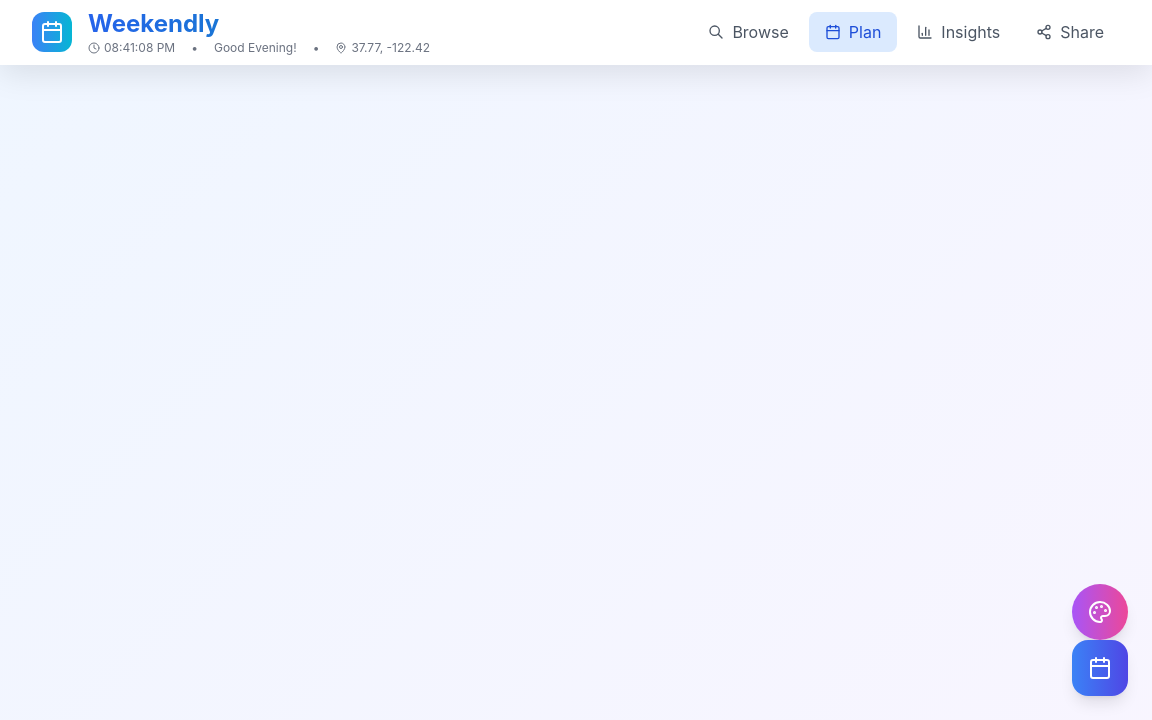
Test: Weekendly - Core Weekend Planner Tests › allows navigation between browse and plan views
Expected: the heading "Weekendly" is shown, [88,8,430,40]
// Click browse button
Click the button "Browse": (749, 32) [692,12,805,52]
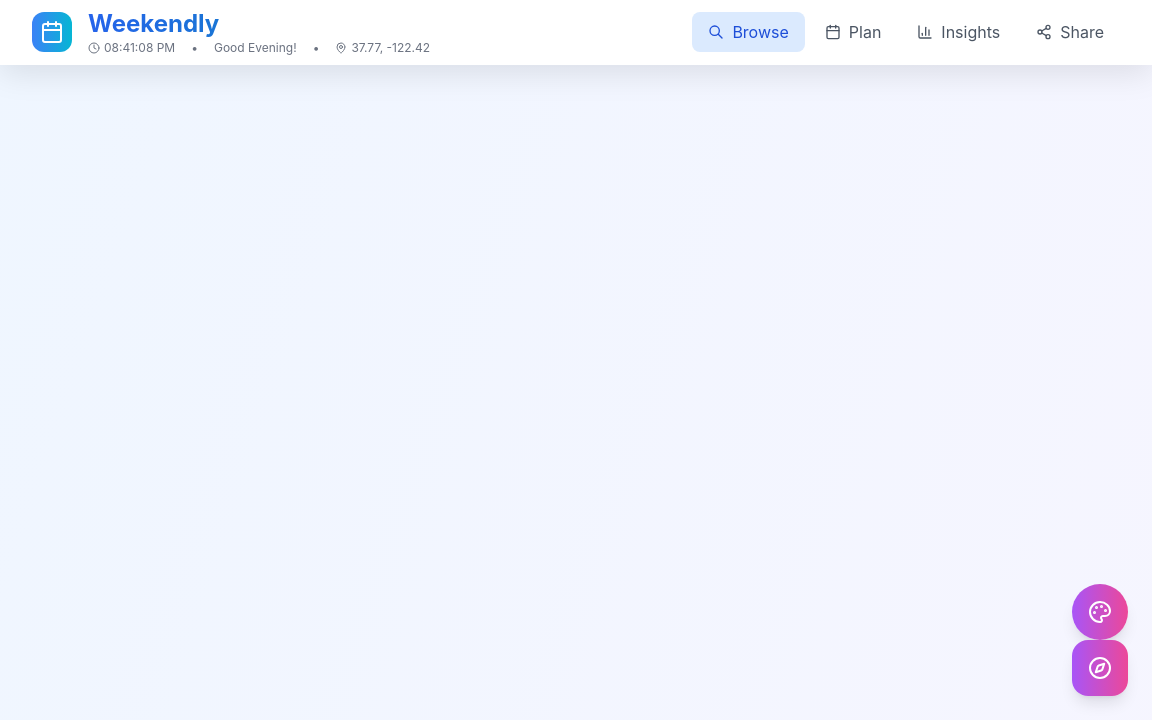
// Click plan button
Click the button "Plan": (853, 32) [809,12,897,52]
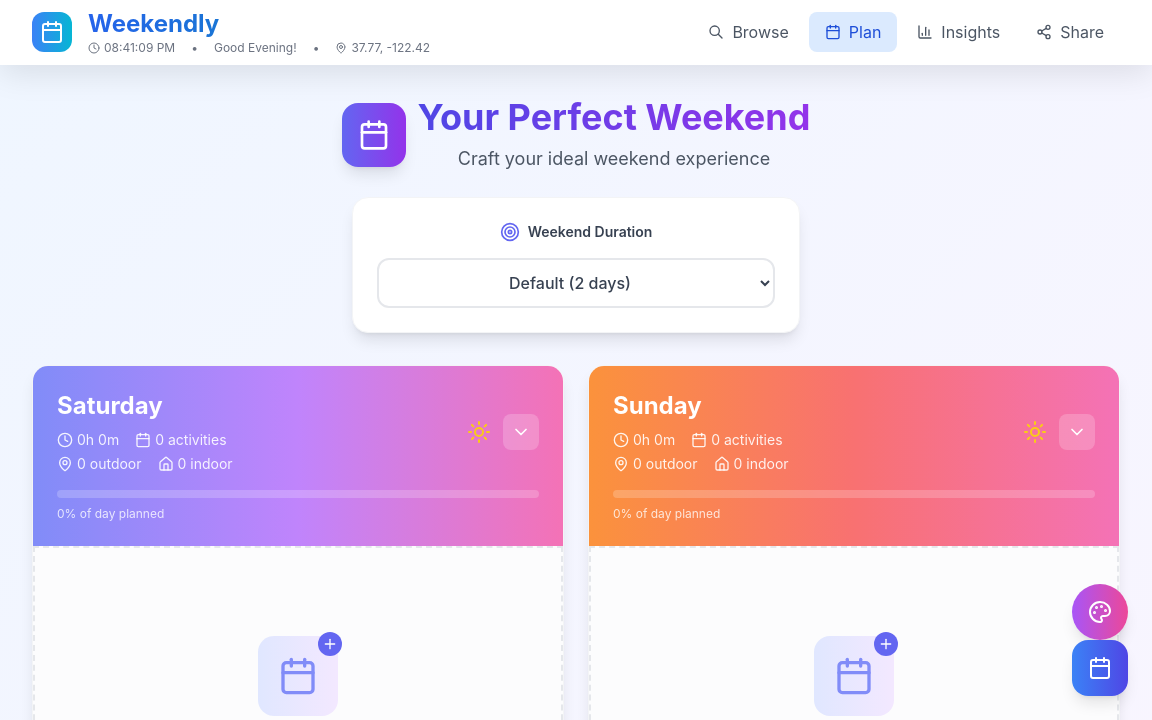
Expected: the heading "Your Perfect Weekend" is shown, [418,97,810,137]
